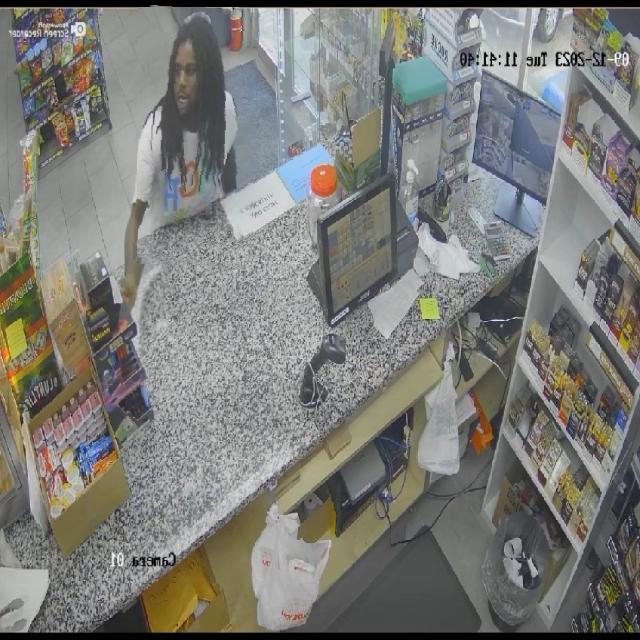Normal: (137, 7, 256, 267)
